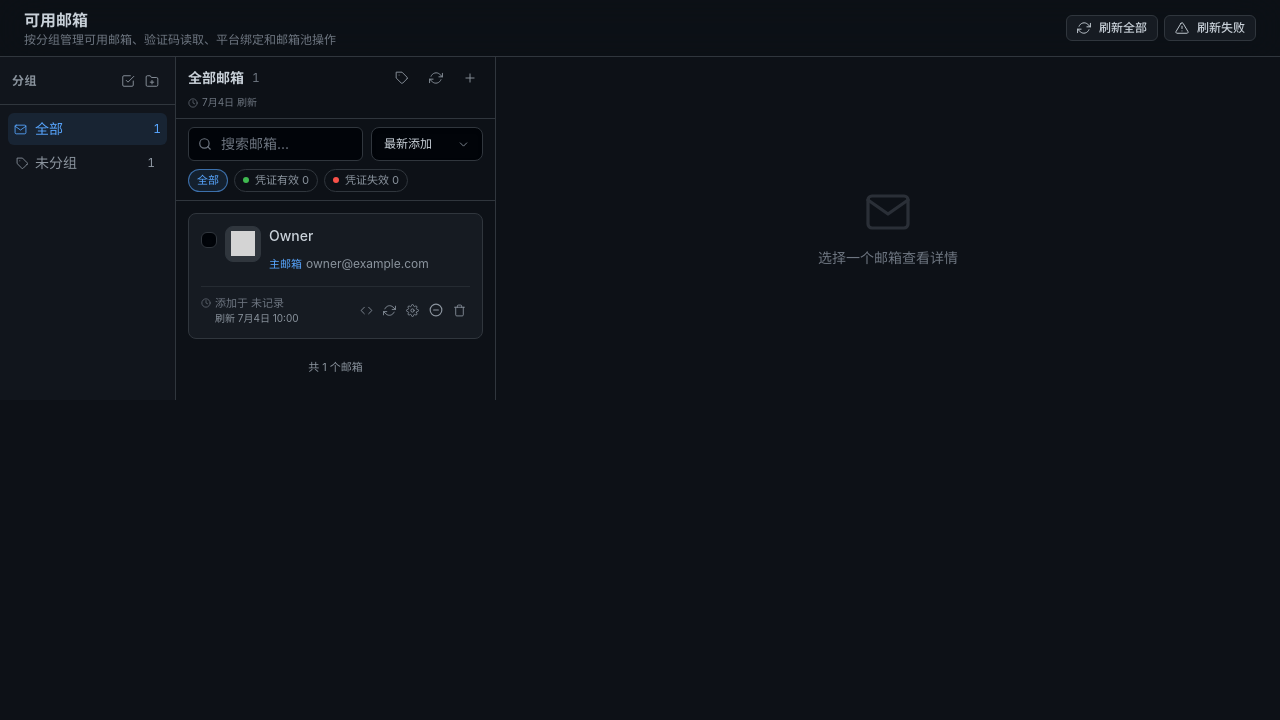
Test: refresh all closes progress and reports the completed SSE summary
The image size is (1280, 720).
Click the button "刷新全部" at (1112, 28), box [1066, 15, 1158, 41]
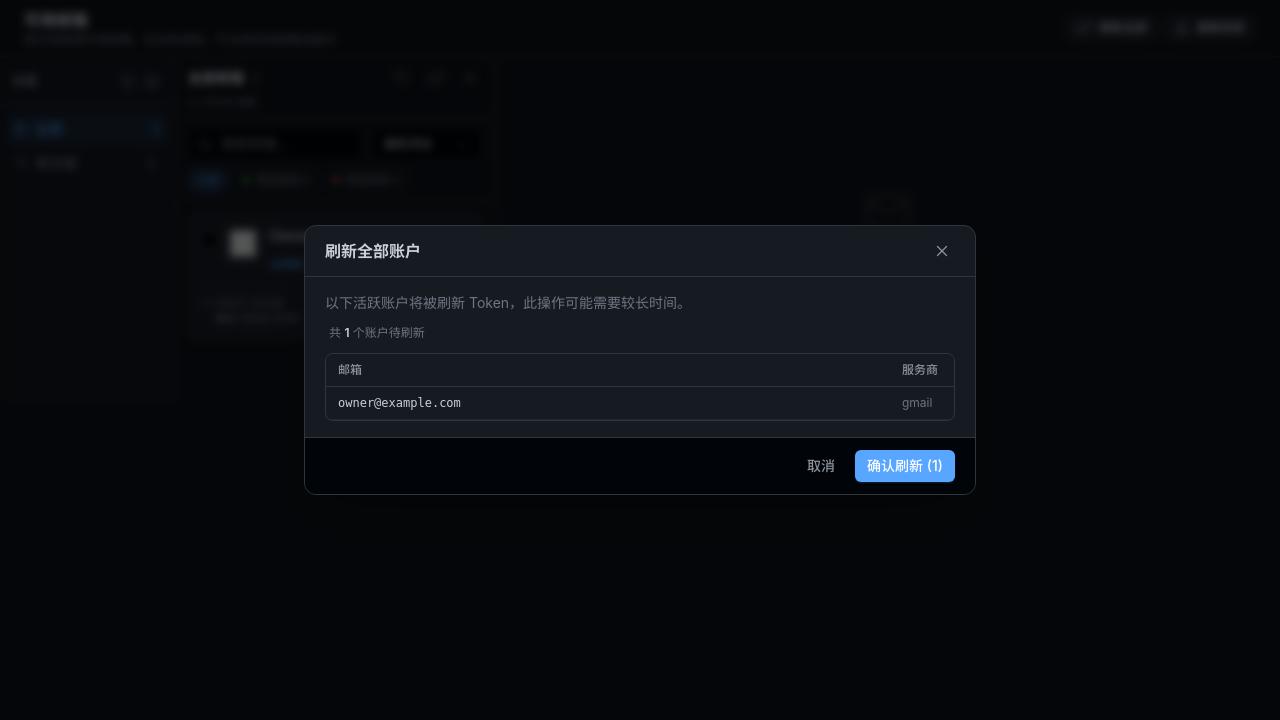
Click the button "确认刷新 (1)" at (905, 466), box [855, 450, 955, 482]
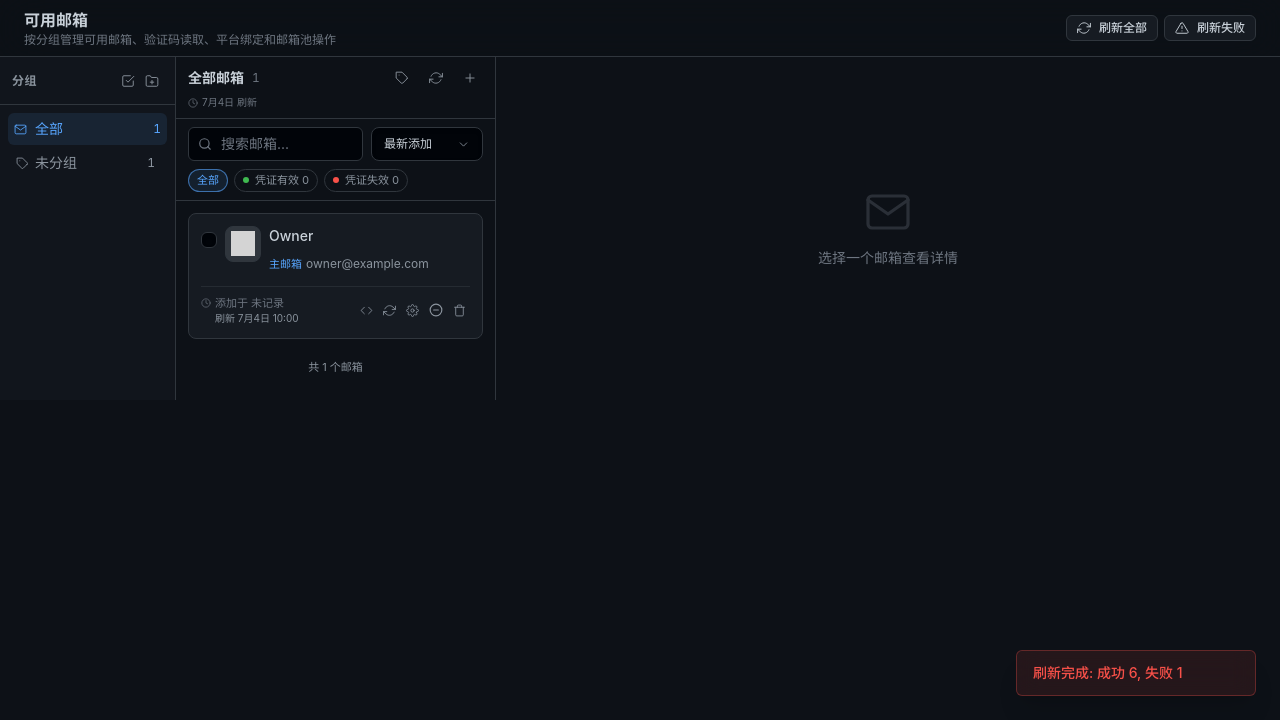
Now the text "刷新完成: 成功 6, 失败 1" is shown, box [1033, 663, 1182, 683]
